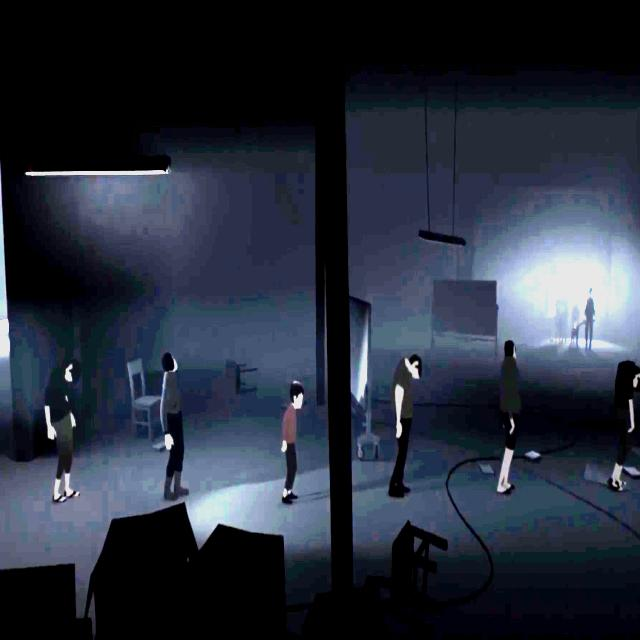boy: (280, 380, 305, 504)
human: (584, 287, 594, 351), (553, 292, 562, 344), (562, 286, 570, 344)
zombie: (390, 352, 424, 502), (46, 358, 80, 502), (159, 354, 187, 518), (497, 341, 521, 495), (611, 362, 640, 488)
